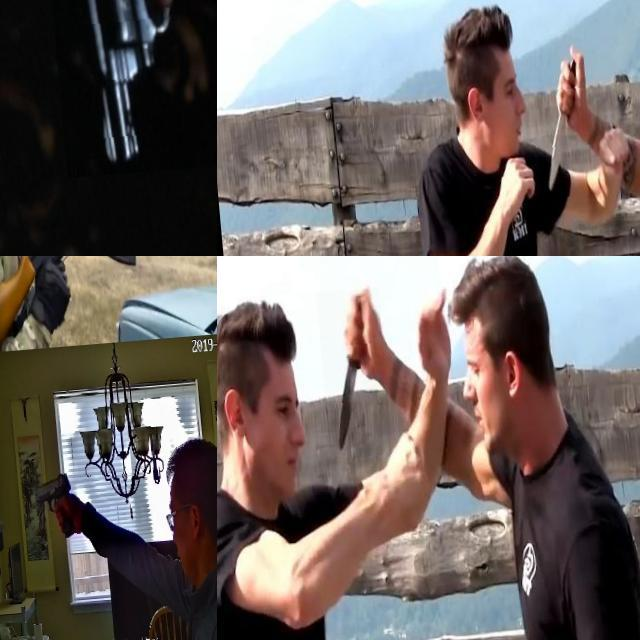-: (316, 291, 388, 462), (530, 43, 590, 204)
gun-knife-thesis - v11 Yolov5 augmented: (24, 0, 217, 243), (0, 256, 217, 390), (0, 443, 126, 640), (0, 256, 97, 412), (22, 476, 80, 552)
